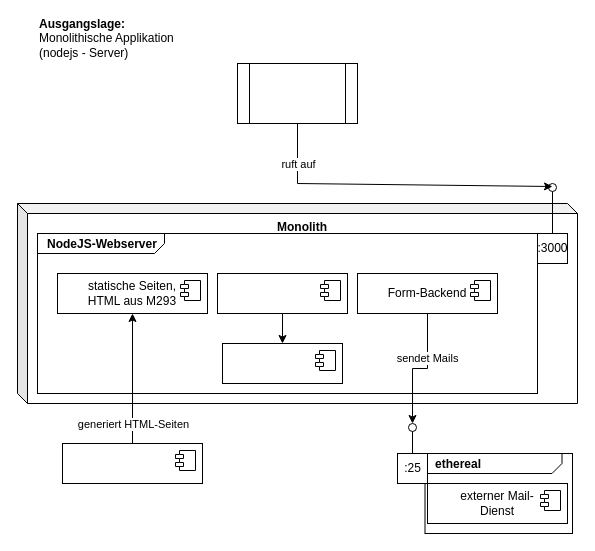
This 595x551 diagram has some shape labels left out. The centre of each missing label's shape, as x and y in pixels:
"Client Browser" belongs at point (297, 93).
"Datenbank sqlite in-memory" belongs at point (282, 363).
"Demo-/Text- API" belongs at point (282, 293).
"Site-Builder 11ty" belongs at point (132, 463).
